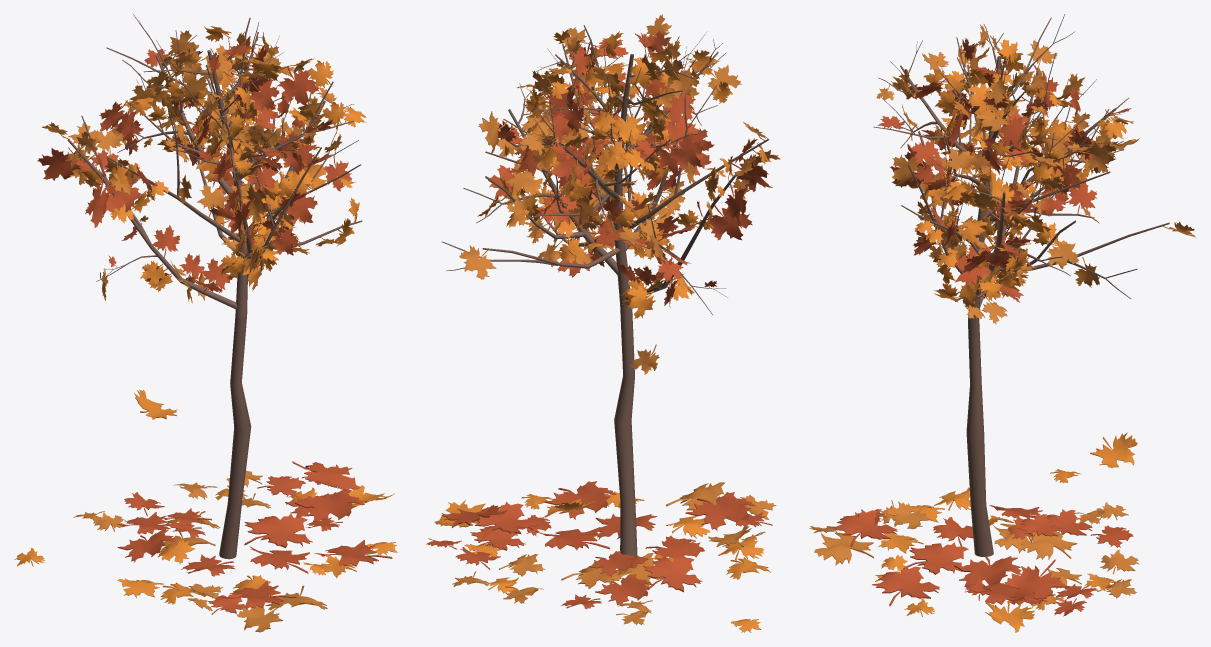
The model's file is clen.fbx.
3 renders of one model, left to right at view 1: azimuth 30°, elevation 25°; view 2: azimuth 150°, elevation 25°; view 3: azimuth 270°, elevation 25°, orthographic. The views are drawn at different scales.
Parts seen in each view (by area): view 1: red, yellow, orange, tree; view 2: red, orange, yellow, tree; view 3: red, orange, yellow, tree.
Part boxes in pixels (box(x1,y1,x2,y2)): red: box(37, 39, 392, 614); yellow: box(14, 26, 397, 604); orange: box(42, 30, 343, 632); tree: box(67, 14, 362, 559); red: box(426, 30, 772, 609); orange: box(452, 14, 780, 625); yellow: box(434, 29, 771, 632); tree: box(442, 25, 769, 557); red: box(831, 38, 1133, 616); orange: box(809, 24, 1196, 598); yellow: box(875, 39, 1137, 632); tree: box(873, 14, 1169, 556).
Size of the model in its own units: 67.93 by 99.45 by 67.39.
